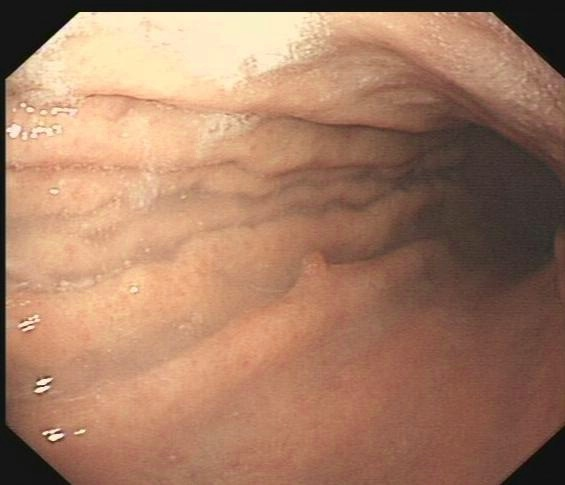Polyp: (293, 224, 344, 298)
